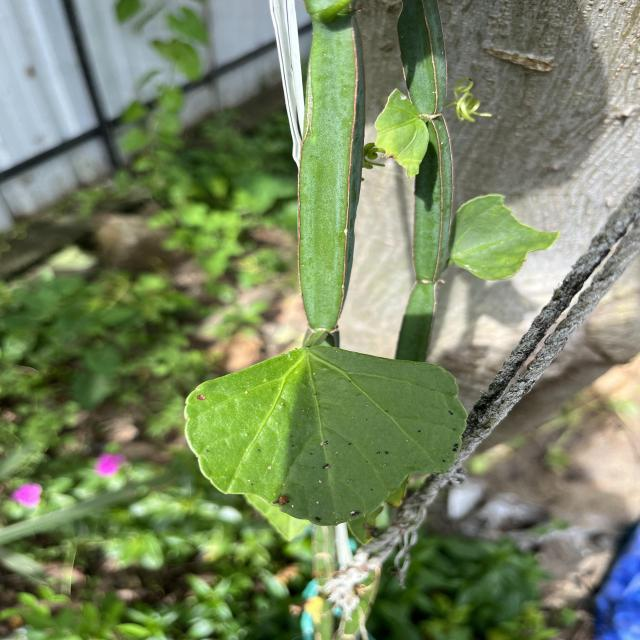Cissus quadrangularis: (180, 343, 472, 529)
